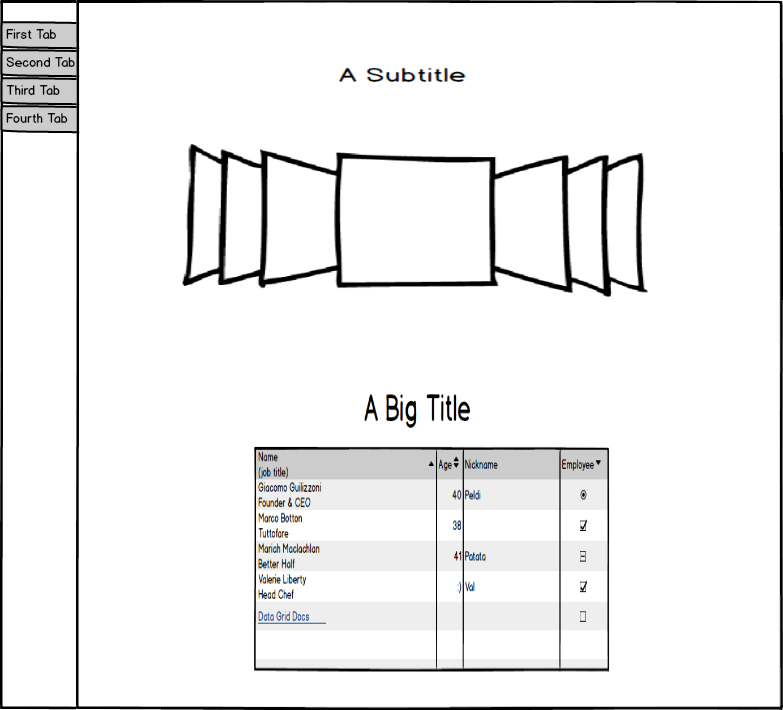h1: (349, 388, 477, 431), (336, 65, 470, 86)
sidebar: (1, 12, 83, 143)
slideshow: (177, 139, 653, 304)
table: (245, 442, 619, 677)
